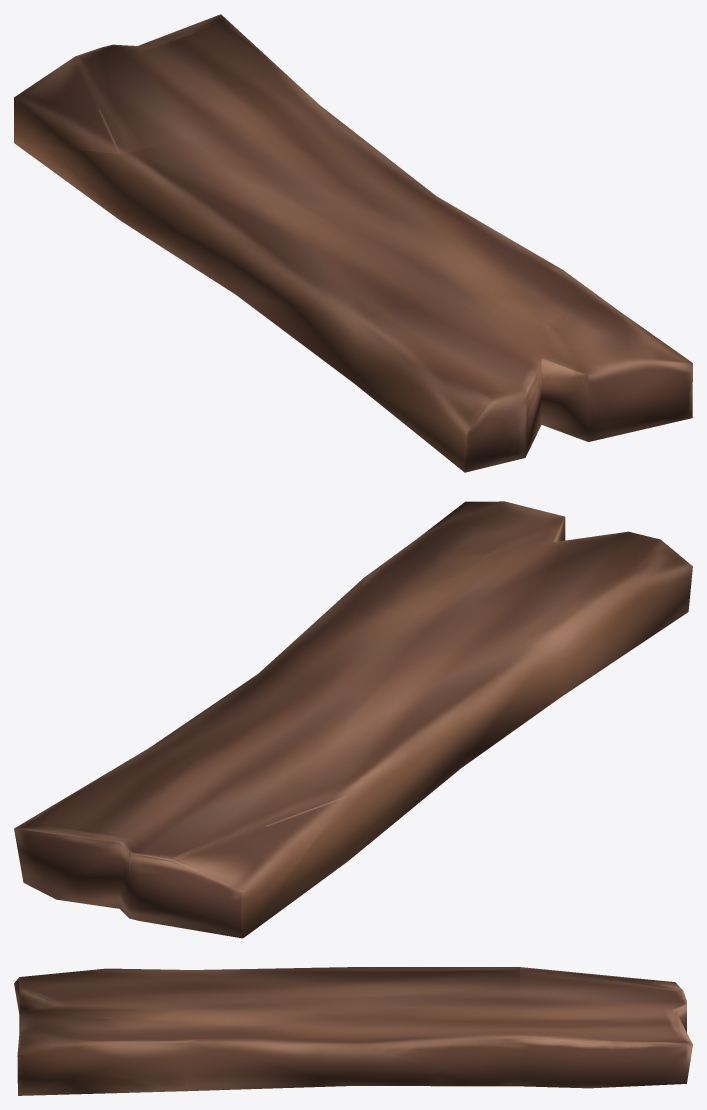
Rendered from SM_Plank_02.fbx.
The picture shows the model from 3 angles, top to bottom: view 1: azimuth 30°, elevation 25°; view 2: azimuth 150°, elevation 25°; view 3: azimuth 270°, elevation 25°; orthographic projection. The views are drawn at different scales.
Parts seen in each view (by area): view 1: Plank; view 2: Plank; view 3: Plank.
Boxes of the visible parts, x1,y1,x2,y2 form: Plank: [14, 14, 692, 472]; Plank: [14, 501, 692, 938]; Plank: [14, 967, 692, 1095].
Size of the model in its own units: 25.9 by 7.22 by 91.9.
